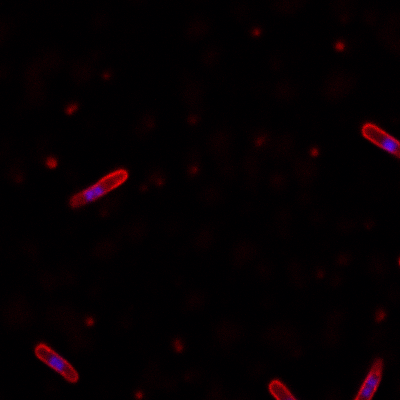Nalidixate: (35, 345, 78, 382)
Oblique: (69, 168, 127, 211), (353, 358, 383, 400)
Vesicle: (44, 157, 57, 170), (65, 103, 78, 115), (84, 317, 95, 328), (172, 339, 182, 351), (335, 41, 345, 52), (309, 147, 319, 158), (252, 26, 261, 38), (134, 391, 144, 400)
